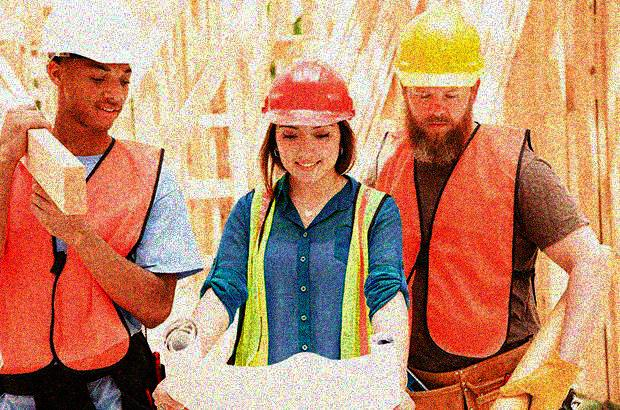helmet: (37, 1, 144, 136), (391, 7, 487, 152), (258, 55, 357, 186)
